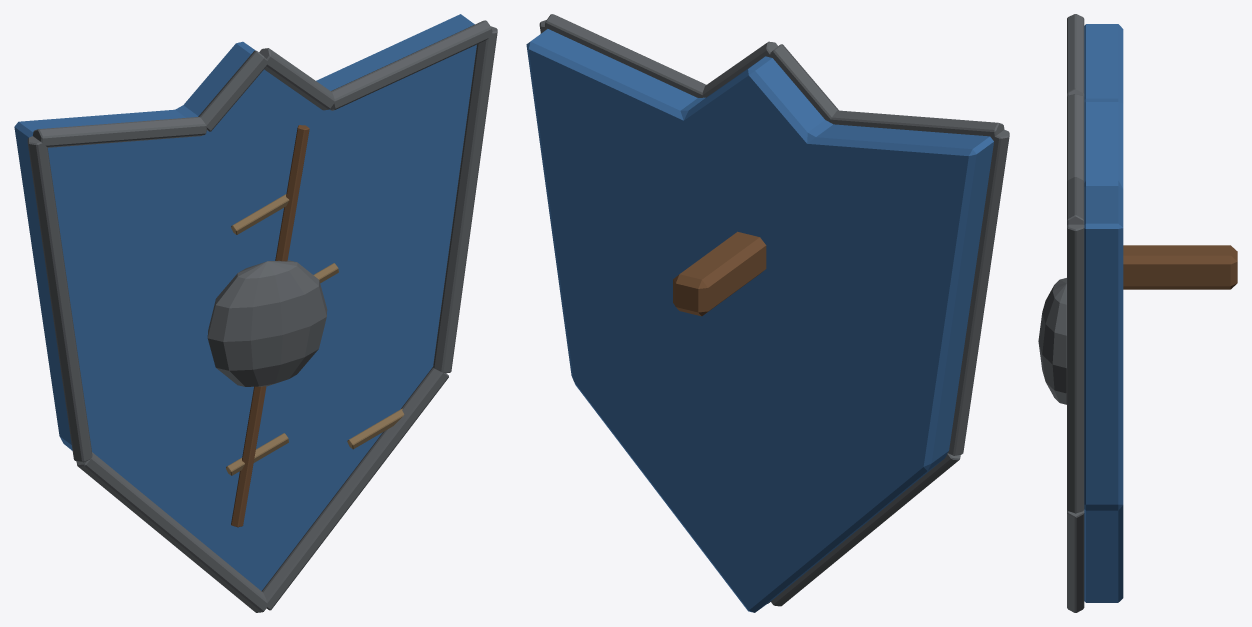
Rendered from runtime.glb.
3 views of the same model, side by side, from view 1: azimuth 30°, elevation 25°; view 2: azimuth 150°, elevation 25°; view 3: azimuth 270°, elevation 25° (orthographic). The views are drawn at different scales.
Visible parts, largest first — view 1: falkenwacht-wall-shield-v07_nocol; view 2: falkenwacht-wall-shield-v07_nocol; view 3: falkenwacht-wall-shield-v07_nocol.
Boxes of the visible parts, bbox=[...] form: falkenwacht-wall-shield-v07_nocol: bbox=[14, 14, 497, 612]; falkenwacht-wall-shield-v07_nocol: bbox=[526, 14, 1009, 612]; falkenwacht-wall-shield-v07_nocol: bbox=[1038, 14, 1237, 612].
Bounding box in the file's own units: 1.47 × 1.68 × 0.5844.
